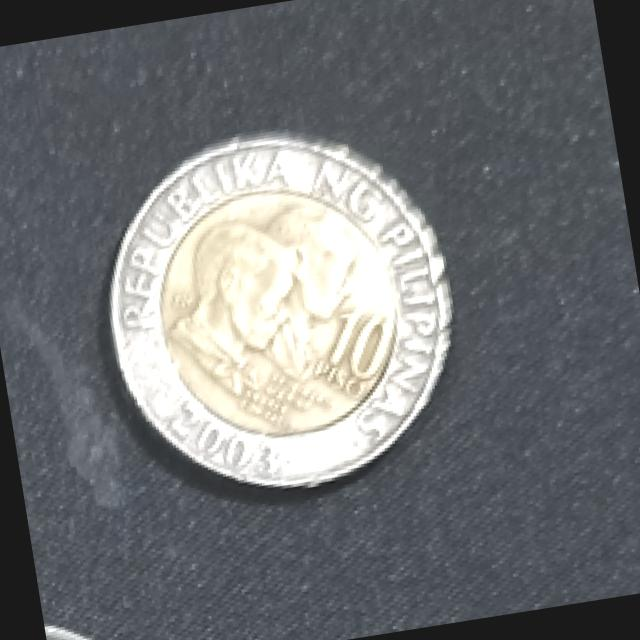10_peso: (109, 134, 449, 484)
